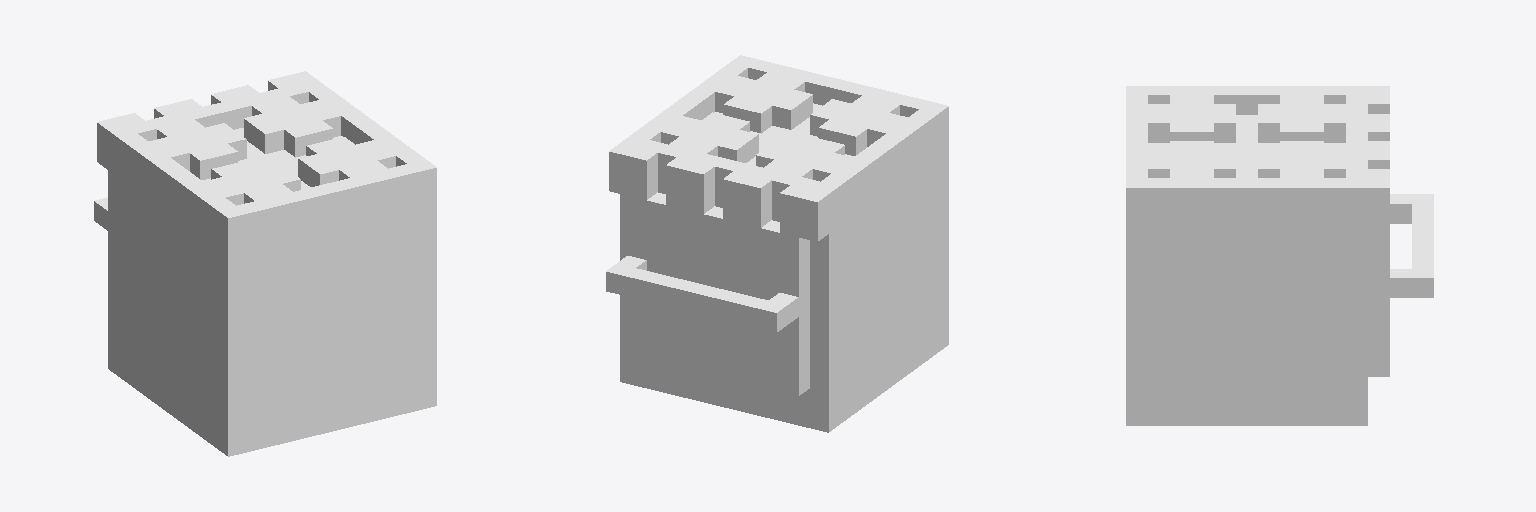
Rendered from modern-stove.obj.
3 views of the same model, side by side, from view 1: azimuth 30°, elevation 25°; view 2: azimuth 150°, elevation 25°; view 3: azimuth 270°, elevation 25° (orthographic).
Visible parts, largest first — view 1: modern:stove; view 2: modern:stove; view 3: modern:stove.
Part boxes in pixels (x1,y1,x2,y2): modern:stove: (94,71,436,456); modern:stove: (606,55,948,432); modern:stove: (1126,86,1433,425).
Size of the model in its own units: 11 by 12 by 14.